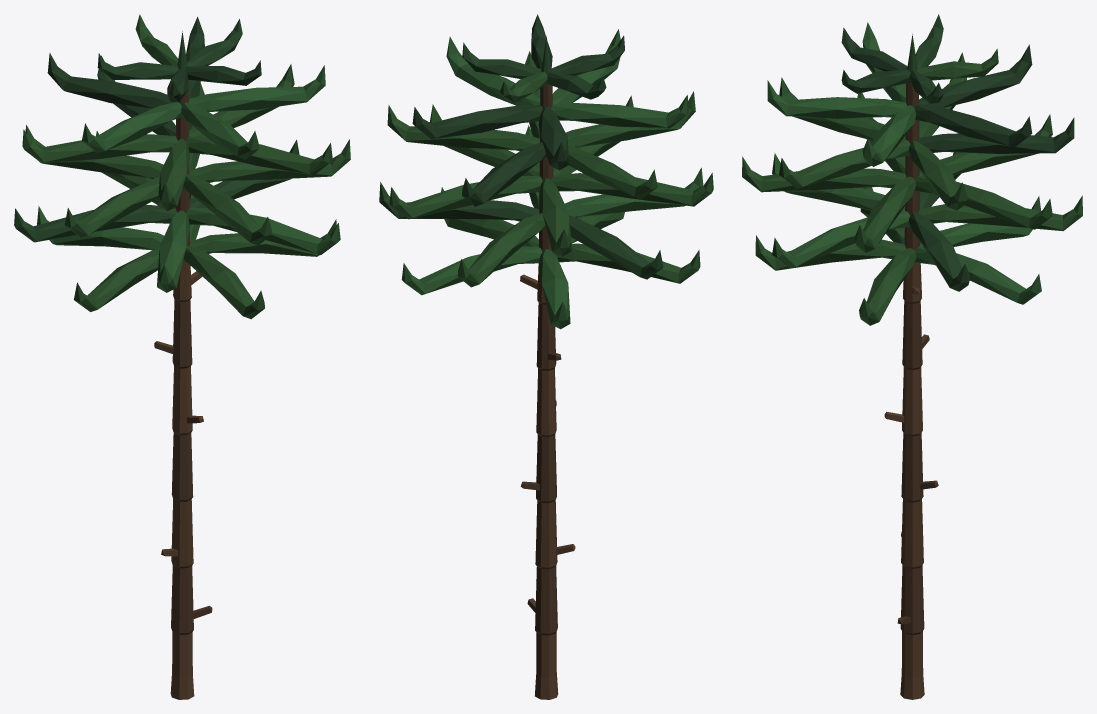
Rendered from araucaria-monkey-puzzle-7c109d.glb.
3 renders of one model, left to right at view 1: azimuth 30°, elevation 25°; view 2: azimuth 150°, elevation 25°; view 3: azimuth 270°, elevation 25°, orthographic.
Parts seen in each view (by area): view 1: araucaria-monkey-puzzle-7c109d; view 2: araucaria-monkey-puzzle-7c109d; view 3: araucaria-monkey-puzzle-7c109d.
Part boxes in pixels (<box>): araucaria-monkey-puzzle-7c109d: <box>14,14,350,699</box>; araucaria-monkey-puzzle-7c109d: <box>379,14,713,699</box>; araucaria-monkey-puzzle-7c109d: <box>742,14,1082,699</box>.
Size of the model in its own units: 13.44 by 30 by 14.02.
